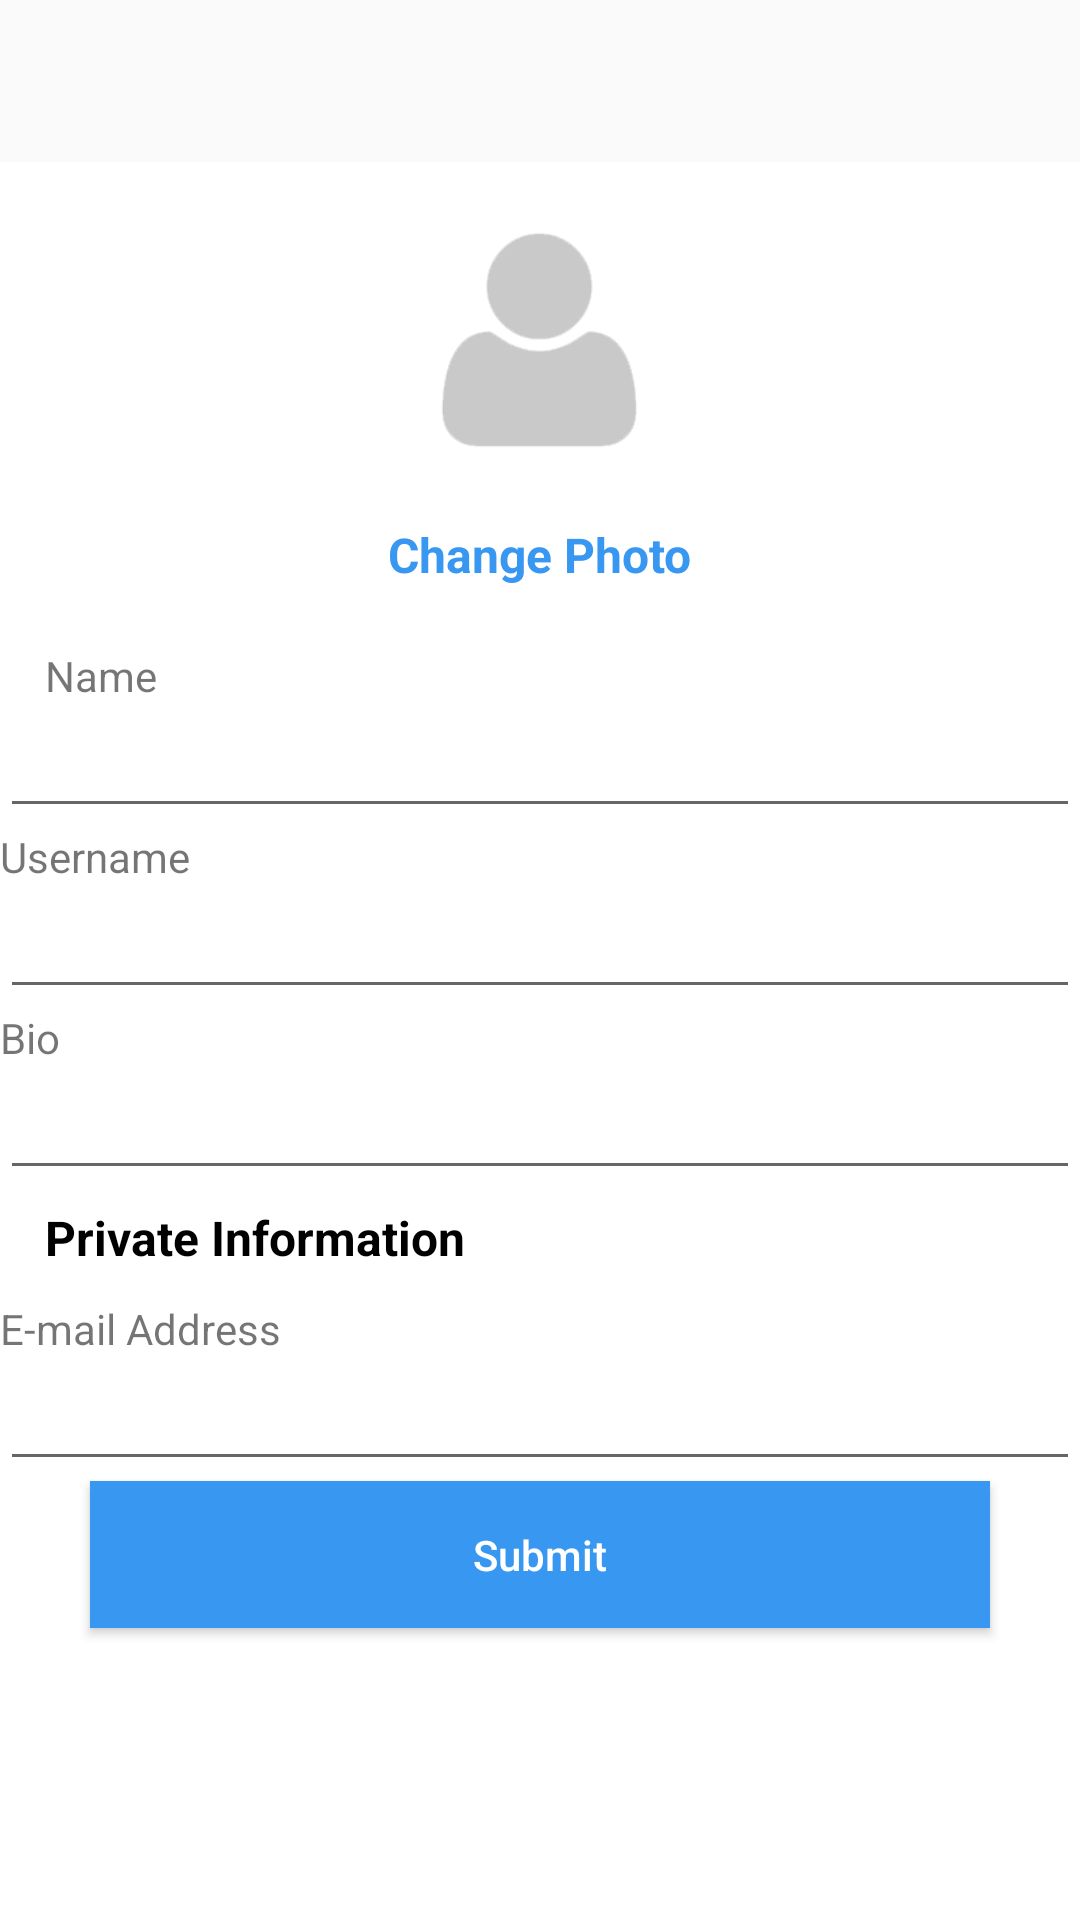

Locate icon controls on the screen. Image size 1080*1920, boxes as (x1, y1, x2, y2).
profile: (443, 234, 636, 446)
